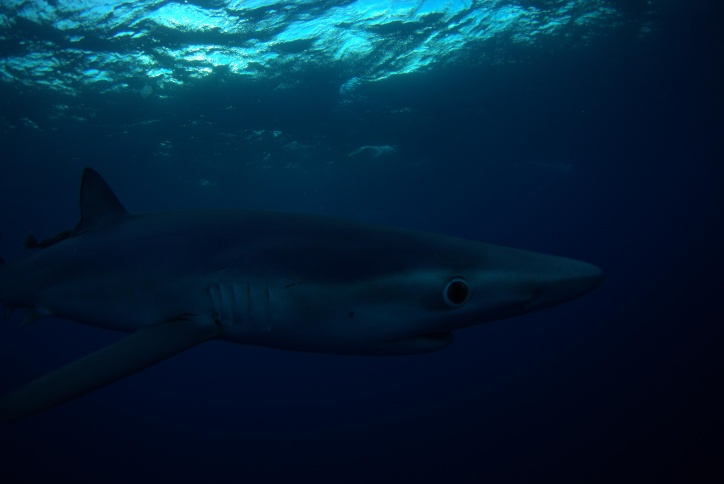Azul: (1, 112, 628, 432)
